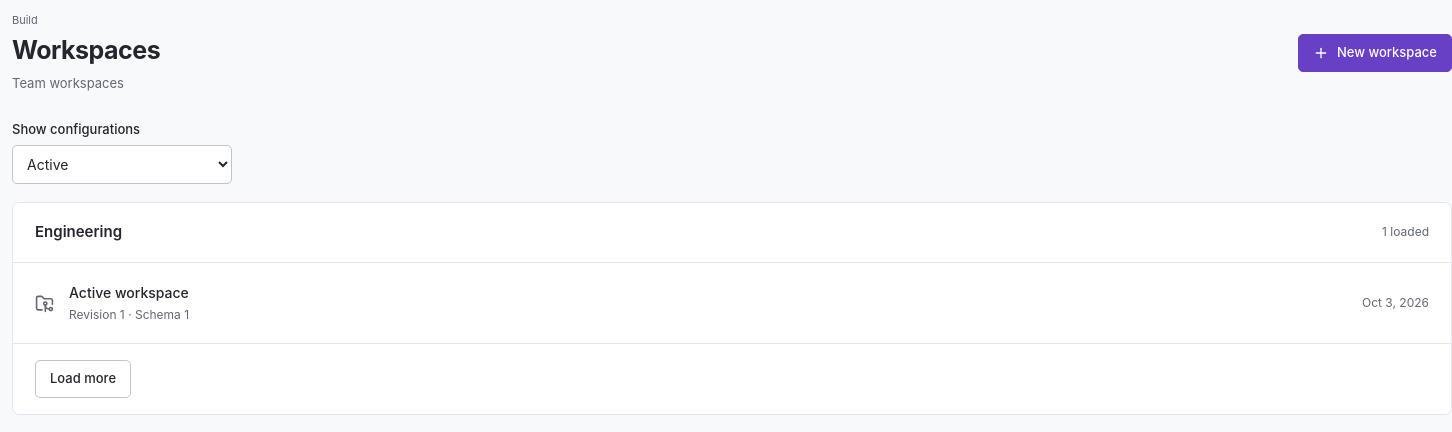
Test case: catalog status filtering › aborts delayed active pagination and ignores its response after switching filters
Click the button "Load more" at (83, 378), box [35,360,131,398]
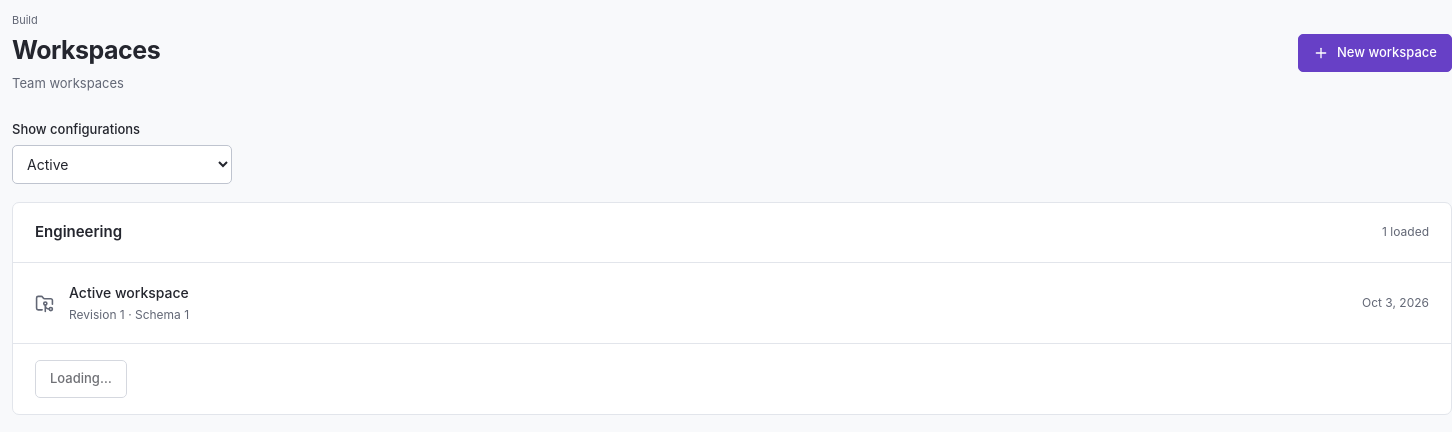
Select "Archived" in the dropdown labelled "Show configurations" at (122, 164), box [12,145,232,184]
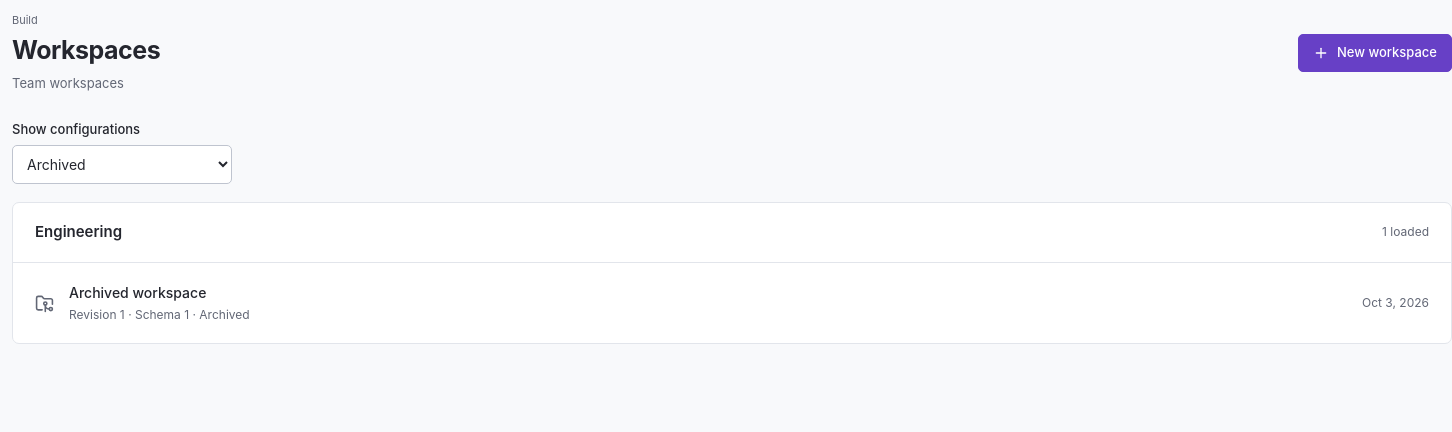
Expected: the text "Archived workspace" is shown, [69,284,206,300]
